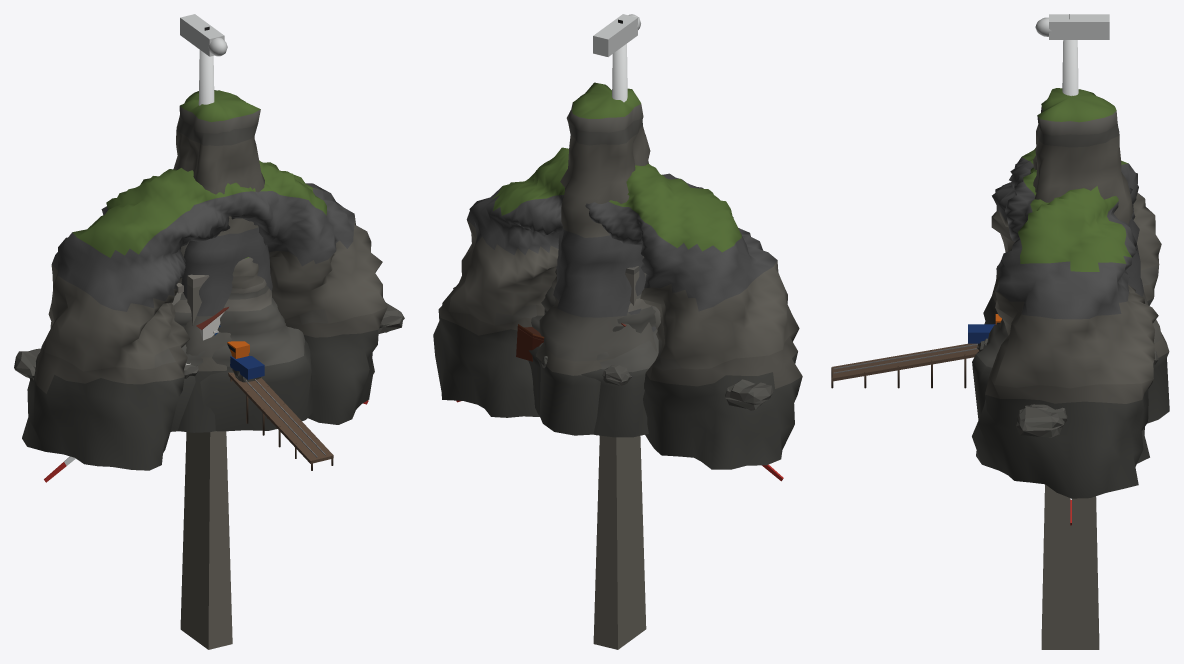
The model's file is props_coast.glb.
3 renders of one model, left to right at view 1: azimuth 30°, elevation 25°; view 2: azimuth 150°, elevation 25°; view 3: azimuth 270°, elevation 25°, orthographic. The views are drawn at different scales.
Visible parts, largest first — view 1: sea_arch, stack_a, stack_c, viaduct_bay, lifeboat_station, turbine, castle_keep; view 2: sea_arch, stack_a, viaduct_bay, stack_c, turbine, wreck; view 3: sea_arch, stack_a, viaduct_bay, lifeboat_station, turbine, stack_c.
Part boxes in pixels (left/top/right/bottom): sea_arch: left=14, top=160, right=404, bottom=470; stack_a: left=173, top=90, right=285, bottom=432; stack_c: left=170, top=257, right=314, bottom=431; viaduct_bay: left=180, top=431, right=232, bottom=649; lifeboat_station: left=196, top=307, right=333, bottom=470; turbine: left=180, top=14, right=227, bottom=105; castle_keep: left=187, top=274, right=209, bottom=325; sea_arch: left=433, top=147, right=802, bottom=469; stack_a: left=536, top=82, right=656, bottom=435; viaduct_bay: left=593, top=435, right=646, bottom=649; stack_c: left=528, top=269, right=658, bottom=437; turbine: left=593, top=14, right=640, bottom=102; wreck: left=516, top=324, right=544, bottom=361; sea_arch: left=972, top=148, right=1161, bottom=498; stack_a: left=1033, top=88, right=1169, bottom=423; viaduct_bay: left=1041, top=484, right=1099, bottom=649; lifeboat_station: left=831, top=314, right=1001, bottom=388; turbine: left=1035, top=14, right=1109, bottom=95; stack_c: left=972, top=319, right=1158, bottom=419.
Bounding box in the file's own units: 74.92 × 125 × 61.11.
